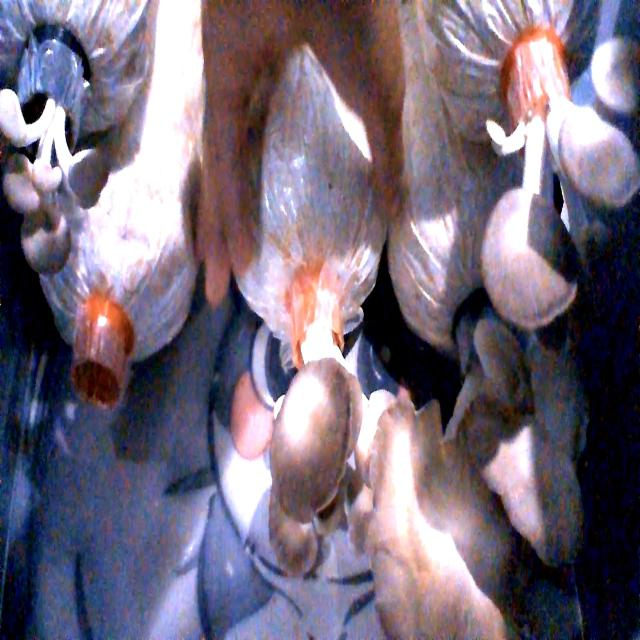big: (372, 329, 584, 640), (462, 49, 640, 320), (231, 344, 383, 573)
nfound: (47, 338, 130, 420)
small: (0, 82, 102, 268)
